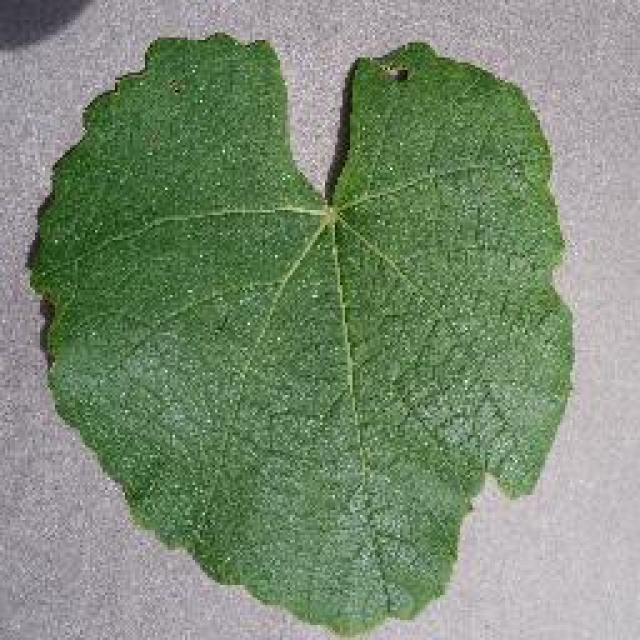Grape___healthy: (30, 35, 570, 630)
